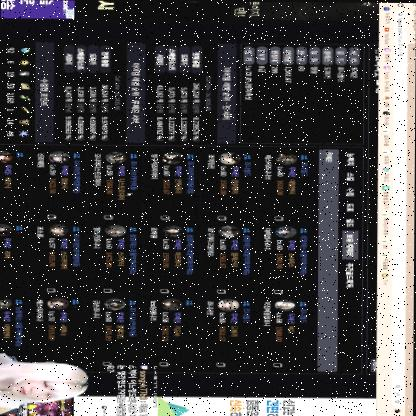streamer: (0, 349, 88, 416)
